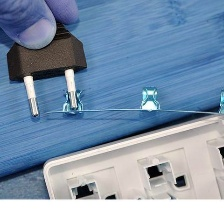three_eye_plug: (40, 106, 224, 200)
